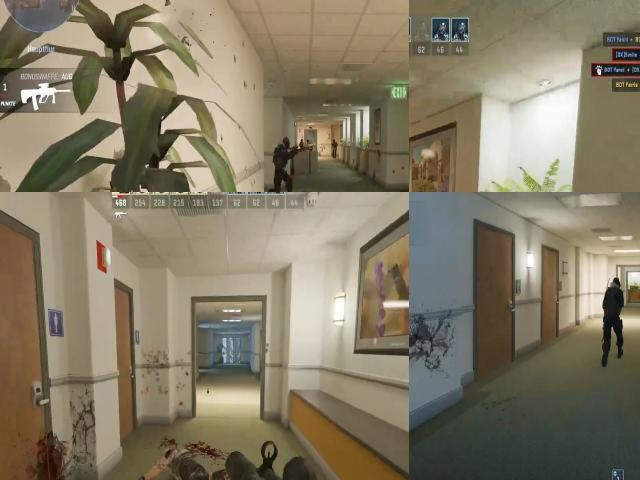CT: (602, 267, 626, 328), (271, 131, 294, 184)
CT-Head: (607, 276, 623, 296), (278, 136, 290, 152)
Dead: (157, 427, 223, 480)
